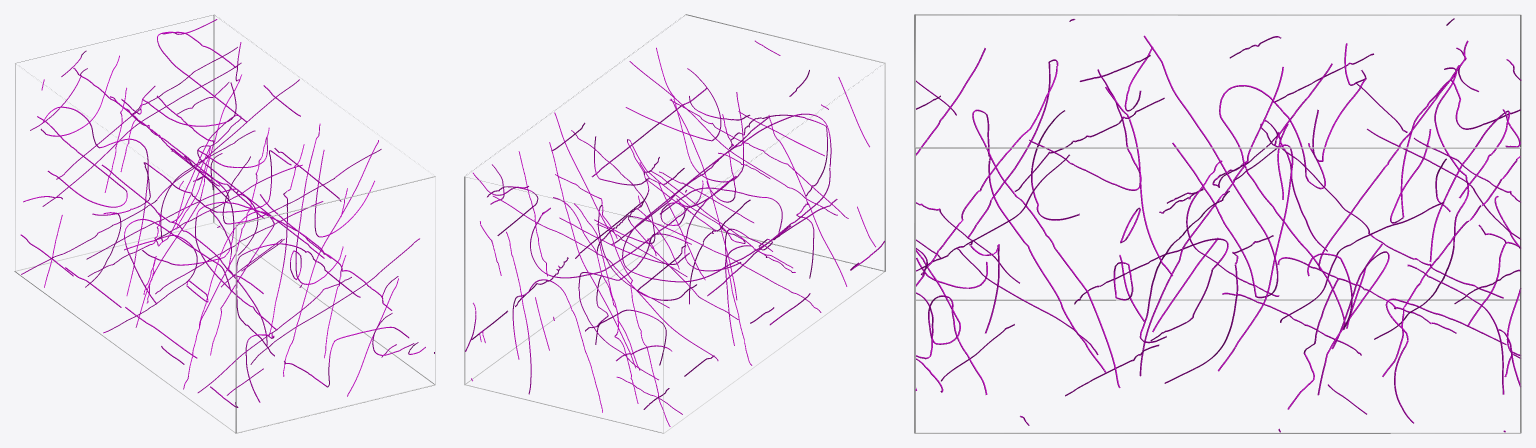
3 renders of one model, left to right at view 1: azimuth 30°, elevation 25°; view 2: azimuth 150°, elevation 25°; view 3: azimuth 270°, elevation 25°, orthographic. The views are drawn at different scales.
Visible parts, largest first — view 1: Shape_IndexedLineSet.001, Shape_IndexedLineSet; view 2: Shape_IndexedLineSet.001, Shape_IndexedLineSet; view 3: Shape_IndexedLineSet.001, Shape_IndexedLineSet.
Boxes of the visible parts, box(x1,y1,x2,y2) form: Shape_IndexedLineSet.001: box(20, 19, 434, 407); Shape_IndexedLineSet: box(14, 14, 435, 433); Shape_IndexedLineSet.001: box(465, 40, 884, 426); Shape_IndexedLineSet: box(464, 14, 885, 433); Shape_IndexedLineSet.001: box(915, 18, 1521, 432); Shape_IndexedLineSet: box(914, 14, 1521, 433).
Size of the model in its own units: 237 by 237 by 455.
